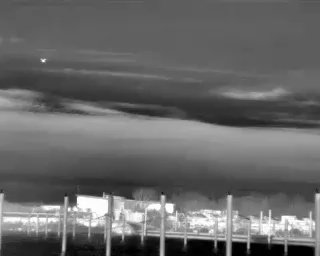BIRD: (39, 55, 48, 65)
